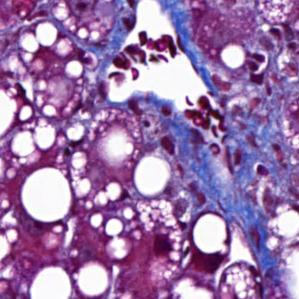inflammation: (244, 49, 272, 82), (7, 79, 38, 106)
